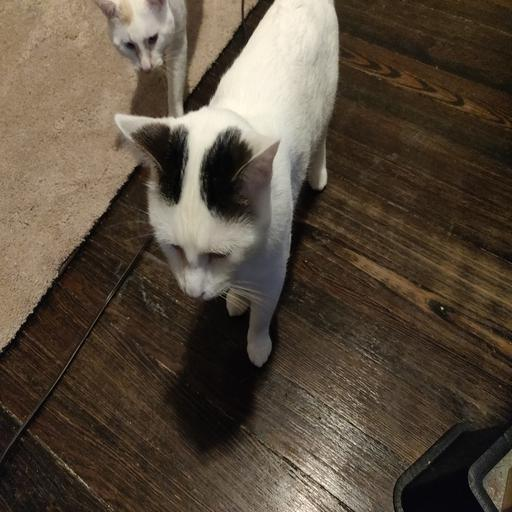cat: (74, 87, 360, 373)
